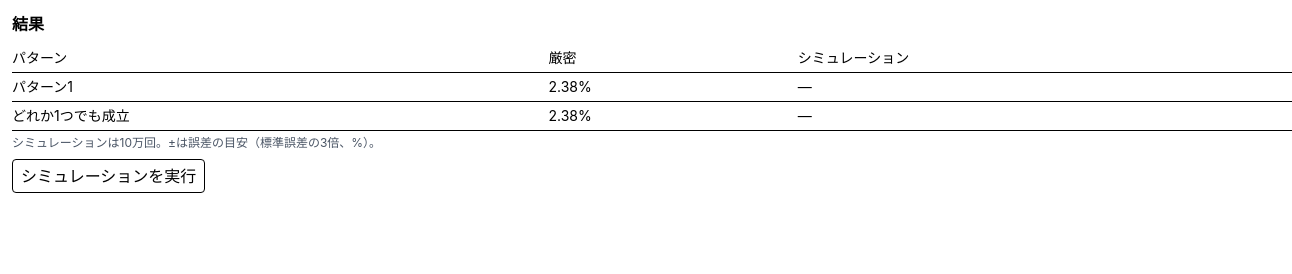
Test: ボタンを押すと、シミュレーションの値と誤差の目安が出る
Click the button "シミュレーションを実行".
click(109, 176)  # box [12,159,205,193]
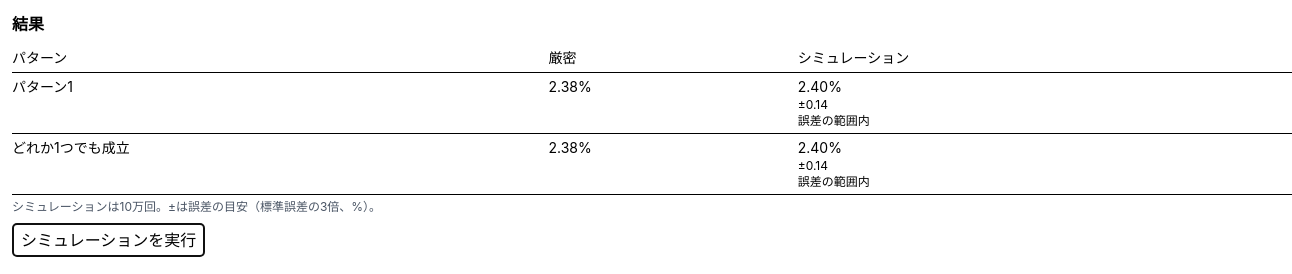
Expected: the text "2.40%" in the row of "パターン1" is shown, [798,78,842,95]
Expected: the 1st text "±0.14" is shown, [798,97,828,112]
Expected: the 1st text "誤差の範囲内" is shown, [798,113,870,128]
